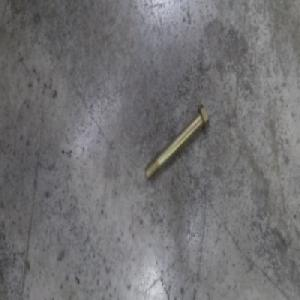Bolt: (144, 102, 209, 183)
